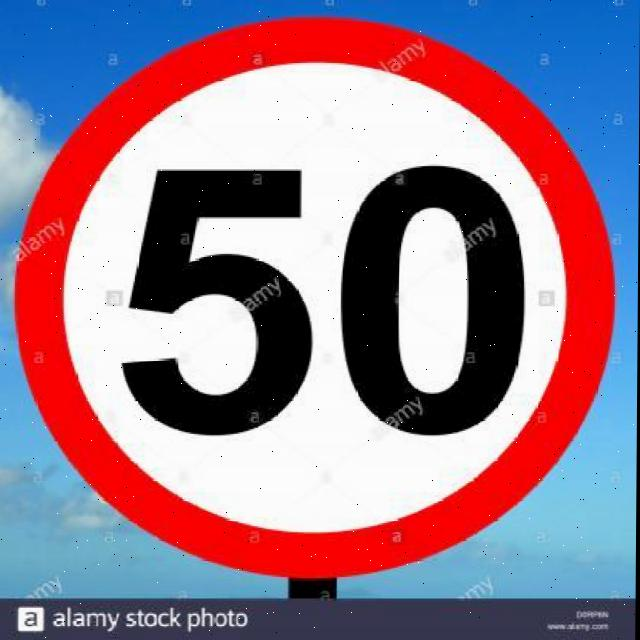Speed limit 50: (10, 13, 621, 581)
